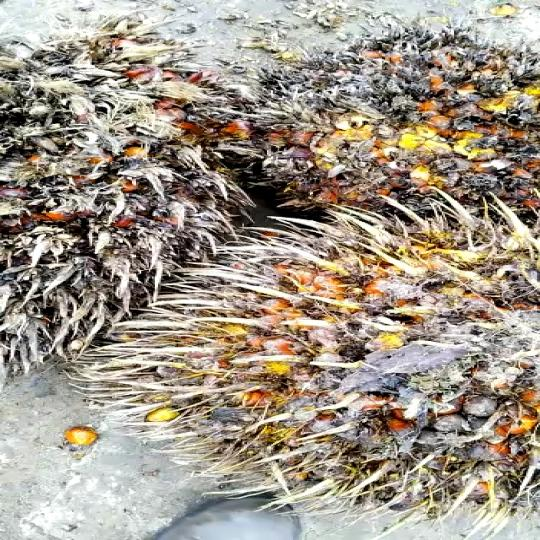terlalu masak: (76, 195, 540, 512)
